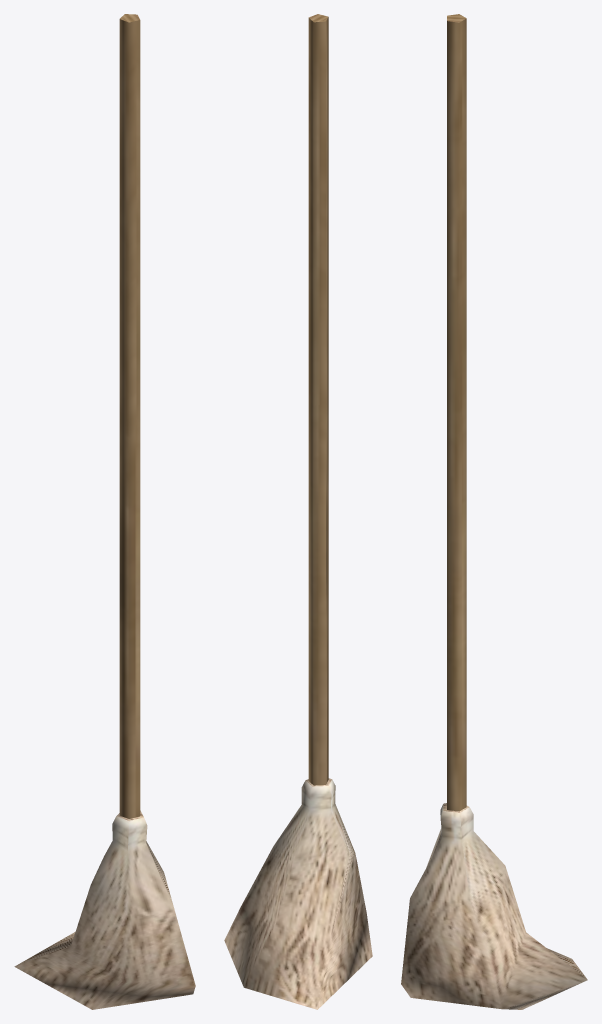
Rendered from Mop_01-col.glb.
3 renders of one model, left to right at view 1: azimuth 30°, elevation 25°; view 2: azimuth 150°, elevation 25°; view 3: azimuth 270°, elevation 25°, orthographic. The views are drawn at different scales.
Visible parts, largest first — view 1: Mop_01-col; view 2: Mop_01-col; view 3: Mop_01-col.
Part boxes in pixels (<box>): Mop_01-col: <box>14,14,195,1009</box>; Mop_01-col: <box>224,14,372,1009</box>; Mop_01-col: <box>401,14,587,1009</box>.
Bounding box in the file's own units: 0.1943 × 1.38 × 0.2389.
1 material, 1 textured.
